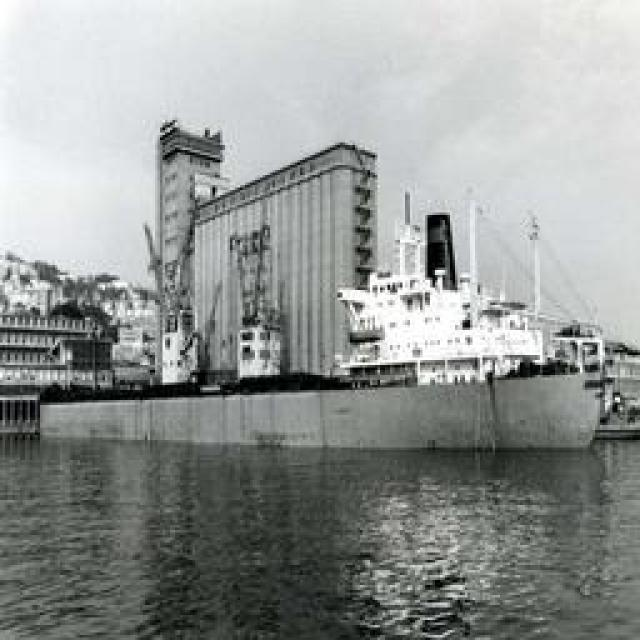Ship: (112, 127, 602, 427)
